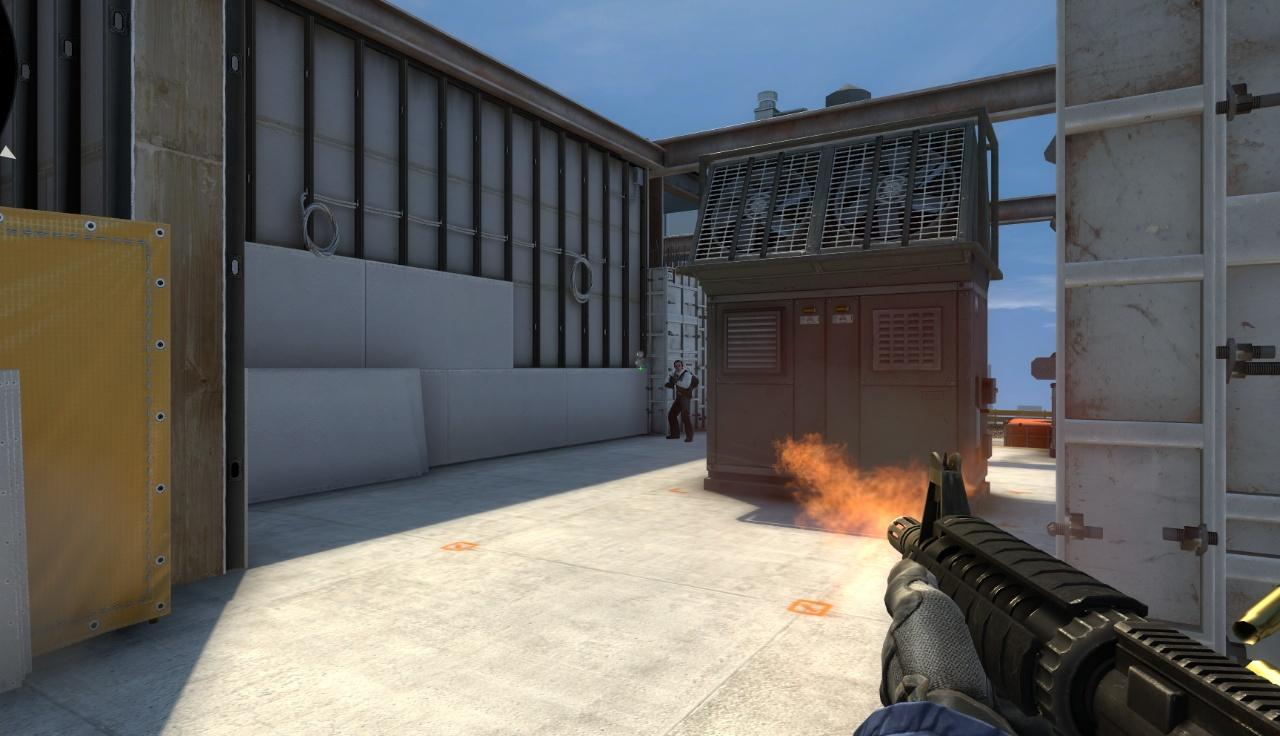rifle: (870, 456, 1280, 734)
tt: (662, 361, 697, 443)
tthead: (674, 361, 683, 372)
